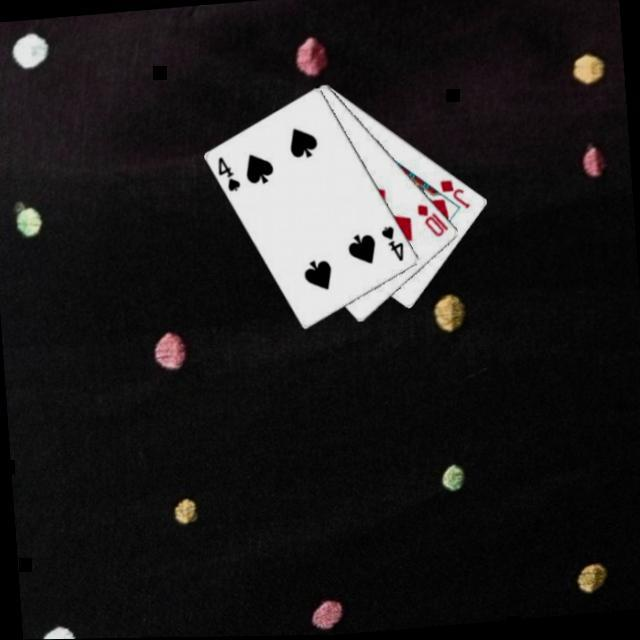10D: (412, 202, 451, 243)
4S: (212, 154, 242, 197), (376, 226, 406, 268)
JD: (435, 178, 471, 215)
